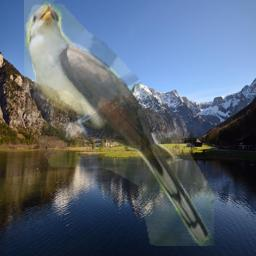Cuckoo: (24, 0, 215, 246)
